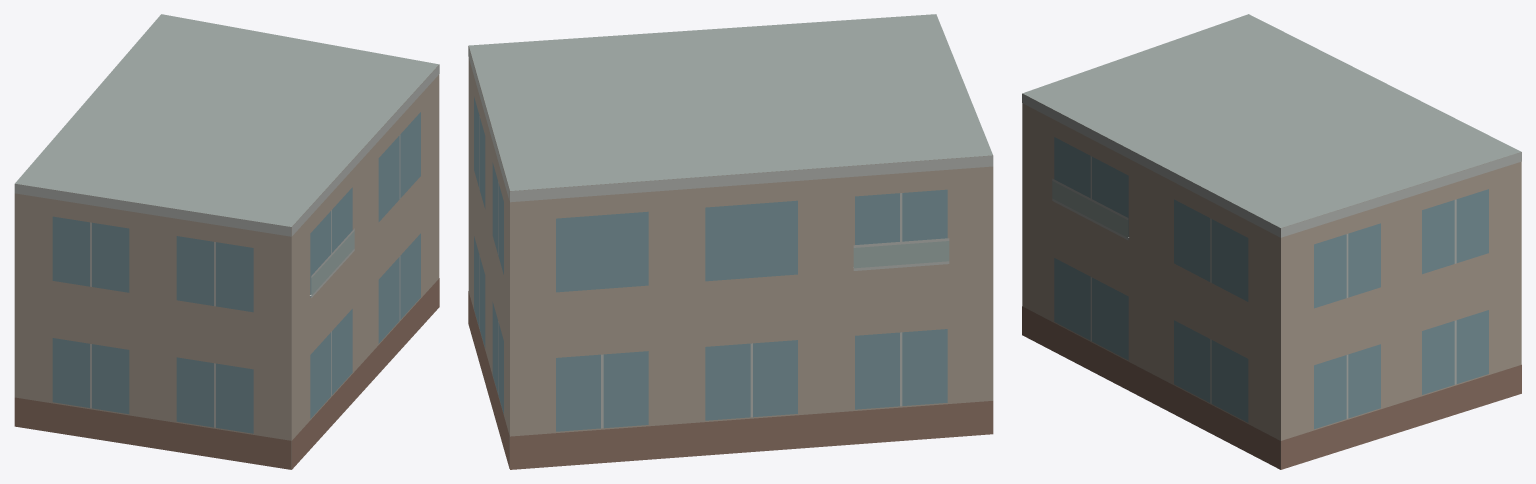
The model's file is survey-upis-33016860.glb.
3 renders of one model, left to right at view 1: azimuth 30°, elevation 25°; view 2: azimuth 150°, elevation 25°; view 3: azimuth 270°, elevation 25°, orthographic. The views are drawn at different scales.
Visible parts, largest first — view 1: survey-upis-33016860.tmp; view 2: survey-upis-33016860.tmp; view 3: survey-upis-33016860.tmp.
Part boxes in pixels (x1,y1,x2,y2): survey-upis-33016860.tmp: (14, 14, 439, 469); survey-upis-33016860.tmp: (468, 14, 993, 469); survey-upis-33016860.tmp: (1022, 14, 1521, 469).
Size of the model in its own units: 11.6 by 6.1 by 11.43.
